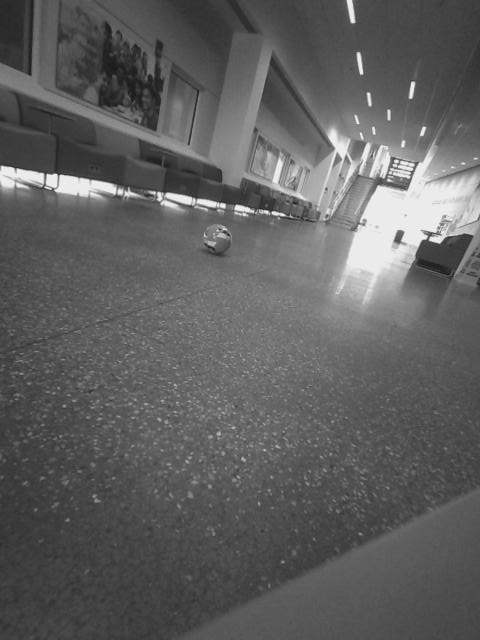ball: (198, 223, 237, 258)
